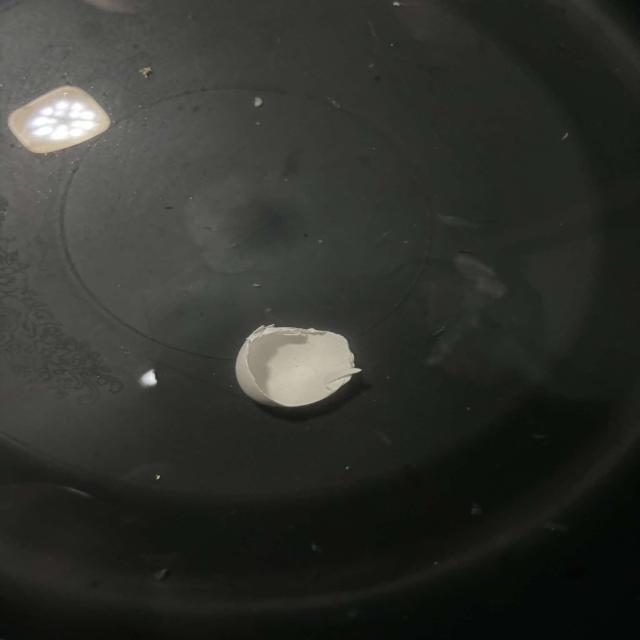Eggshell: (235, 325, 361, 409)
